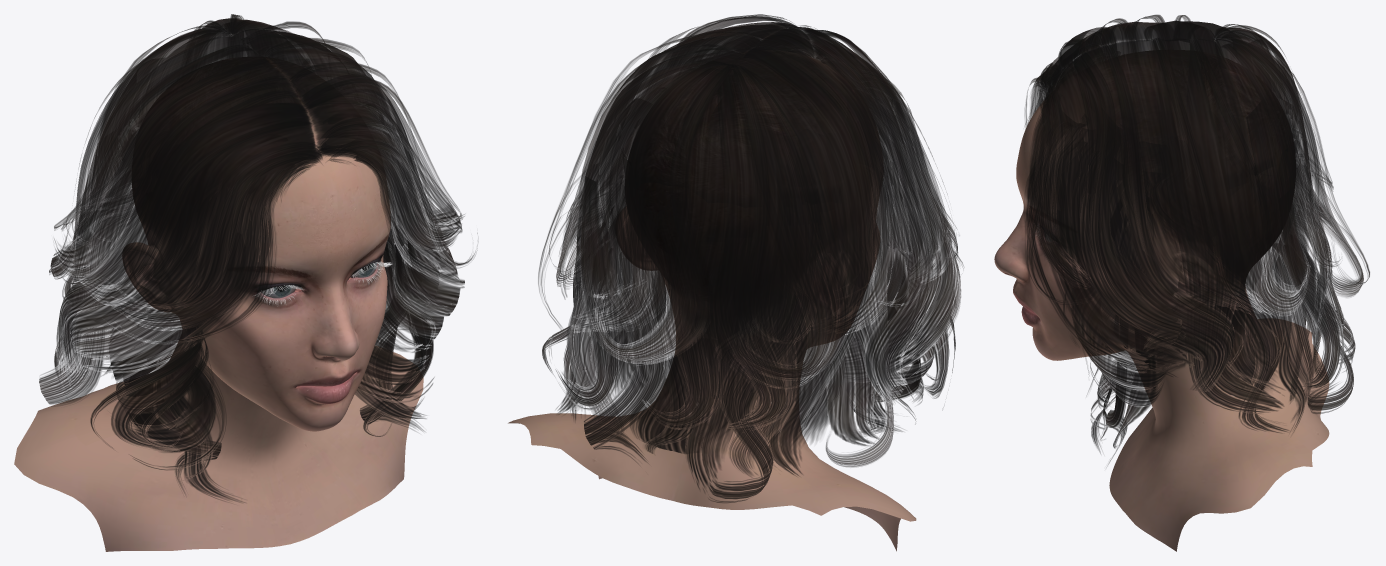
File: angelica3d.web.glb
The picture shows the model from 3 angles, left to right: view 1: azimuth 30°, elevation 25°; view 2: azimuth 150°, elevation 25°; view 3: azimuth 270°, elevation 25°; orthographic projection. The views are drawn at different scales.
Parts seen in each view (by area): view 1: Hair_Hair_0, Head_Head_0, Eyelashes_Eyelashes_0, Eye_Eye_0; view 2: Hair_Hair_0, Head_Head_0; view 3: Hair_Hair_0, Head_Head_0.
Boxes of the visible parts, x1,y1,x2,y2 form: Hair_Hair_0: [39, 14, 477, 502]; Head_Head_0: [14, 57, 423, 551]; Eyelashes_Eyelashes_0: [254, 261, 391, 304]; Eye_Eye_0: [261, 262, 377, 298]; Hair_Hair_0: [538, 14, 963, 502]; Head_Head_0: [508, 50, 916, 551]; Hair_Hair_0: [1024, 14, 1369, 464]; Head_Head_0: [994, 50, 1329, 551].
Size of what is drawn, in the model's own units: 171 by 193 by 146.
5 materials, 4 textured.
